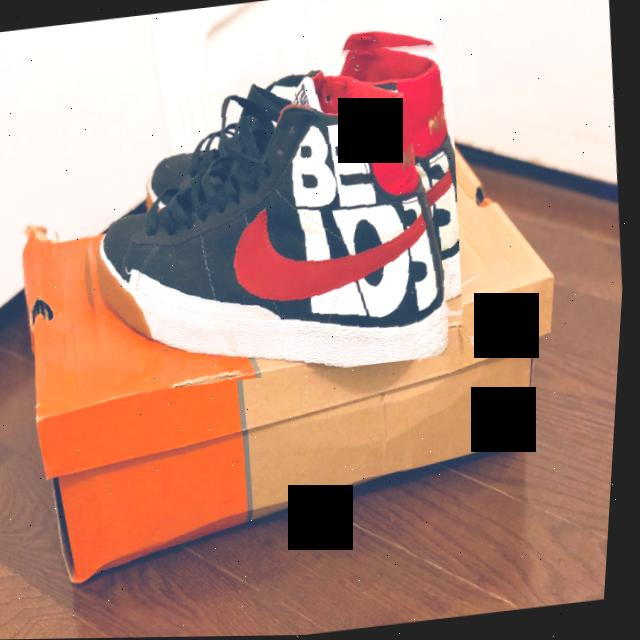shoe: (54, 24, 484, 399)
